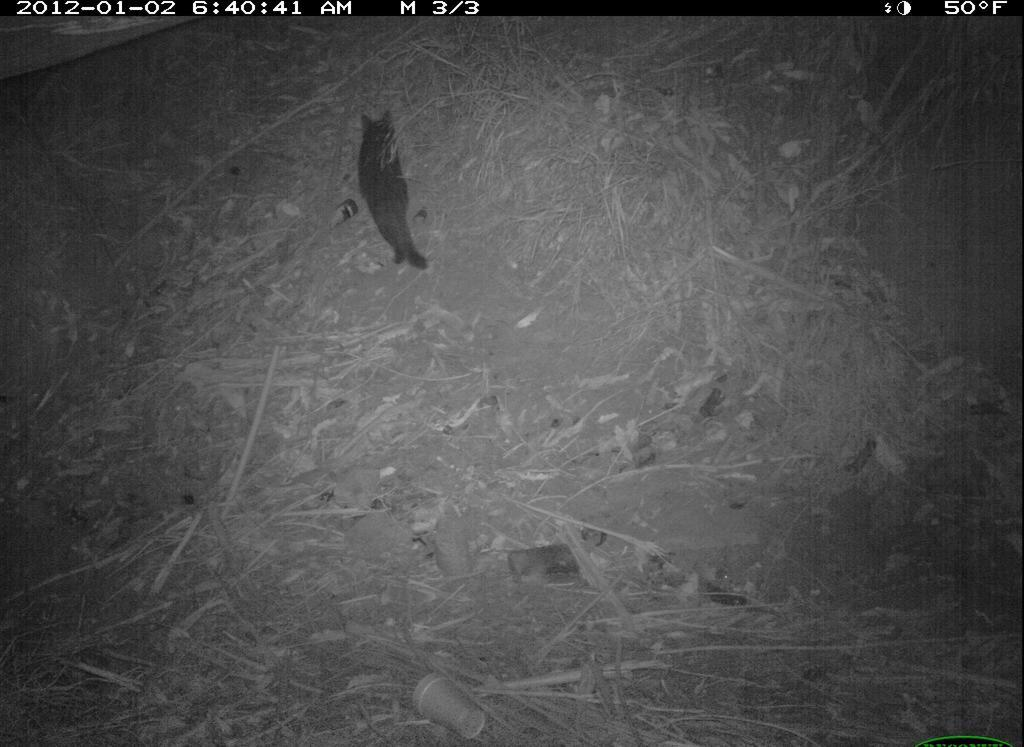cat: (349, 104, 441, 277)
